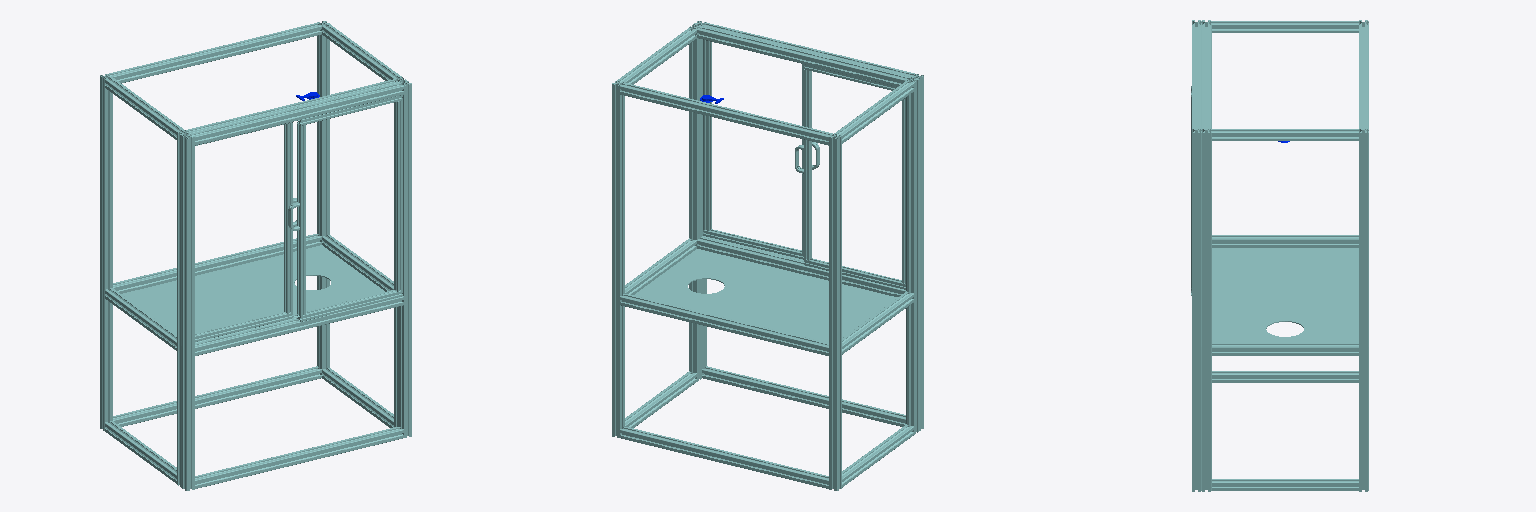
robot.urdf — prbt_cell:
<?xml version="1.0" ?>
<!-- =================================================================================== -->
<!-- |    This document was autogenerated by xacro from prbt_cell.urdf.xacro           | -->
<!-- |    EDITING THIS FILE BY HAND IS NOT RECOMMENDED                                 | -->
<!-- =================================================================================== -->
<robot name="prbt_cell">
  <!-- Specify some standard inertial calculations https://en.wikipedia.org/wiki/List_of_moments_of_inertia -->
  <!-- These make use of xacro's mathematical functionality -->
  <material name="aluminum">
    <color rgba="0.5 0.5 0.5 1"/>
  </material>
  <material name="plastic">
    <color rgba="0.1 0.1 0.1 1"/>
  </material>
  <!-- Add world link -->
  <link name="world"/>
  <material name="gray">
    <color rgba="0.6 0.8 0.8 1"/>
  </material>
  <link name="visuals_link">
    <visual>
      <geometry>
        <mesh filename="package://prbt_cell_description/meshes/prbt_cell_v1.0.STL" scale="0.001 0.001 0.001"/>
      </geometry>
      <material name="gray"/>
    </visual>
  </link>
  <link name="shield_front_link">
    <collision>
      <origin rpy="0 0 0" xyz="0 0 0"/>
      <geometry>
        <box size="1.2 0.045 1.16"/>
      </geometry>
      <material name="gray"/>
    </collision>
    <inertial>
      <origin rpy="0 0 0" xyz="0 0 0"/>
      <mass value="5"/>
      <inertia ixx="0.5615104166666666" ixy="0.0" ixz="0.0" iyy="1.1606666666666665" iyz="0.0" izz="0.6008437499999999"/>
    </inertial>
  </link>
  <link name="shield_rear_link">
    <collision>
      <origin rpy="0 0 0 " xyz="0 0 0"/>
      <geometry>
        <box size="1.2 0.09 1.16"/>
      </geometry>
      <material name="gray"/>
    </collision>
    <inertial>
      <origin rpy="0 0 0" xyz="0 0 0"/>
      <mass value="5"/>
      <inertia ixx="0.5640416666666666" ixy="0.0" ixz="0.0" iyy="1.1606666666666665" iyz="0.0" izz="0.6033749999999999"/>
    </inertial>
  </link>
  <link name="shield_right_link">
    <collision>
      <origin rpy="0 0 0" xyz="0 0 0"/>
      <geometry>
        <box size="0.045 0.8 1.16"/>
      </geometry>
      <material name="gray"/>
    </collision>
    <inertial>
      <origin rpy="0 0 0" xyz="0 0 0"/>
      <mass value="5"/>
      <inertia ixx="0.8273333333333333" ixy="0.0" ixz="0.0" iyy="0.5615104166666666" iyz="0.0" izz="0.2675104166666667"/>
    </inertial>
  </link>
  <link name="shield_left_link">
    <collision>
      <origin rpy="0 0 0" xyz="0 0 0"/>
      <geometry>
        <box size="0.045 0.8 1.16"/>
      </geometry>
      <material name="gray"/>
    </collision>
    <inertial>
      <origin rpy="0 0 0" xyz="0 0 0"/>
      <mass value="5"/>
      <inertia ixx="0.8273333333333333" ixy="0.0" ixz="0.0" iyy="0.5615104166666666" iyz="0.0" izz="0.2675104166666667"/>
    </inertial>
  </link>
  <link name="robotcell_base_link">
    <collision>
      <origin rpy="0 0 0" xyz="0 0 0.31"/>
      <geometry>
        <box size="1.2 0.8 0.62"/>
      </geometry>
      <material name="gray"/>
    </collision>
    <inertial>
      <origin rpy="0 0 0" xyz="0 0 0"/>
      <mass value="70"/>
      <inertia ixx="5.975666666666667" ixy="0.0" ixz="0.0" iyy="10.642333333333333" iyz="0.0" izz="12.133333333333333"/>
    </inertial>
  </link>
  <link name="robot_link"/>
  <joint name="robotcell_base_to_visual" type="fixed">
    <parent link="robotcell_base_link"/>
    <child link="visuals_link"/>
    <origin rpy="0 0 1.5707963267948966" xyz="0.6 -0.4 0"/>
  </joint>
  <joint name="robotcell_base_to_front_joint" type="fixed">
    <parent link="robotcell_base_link"/>
    <child link="shield_front_link"/>
    <origin rpy="0 0 0" xyz="0 0.3775 1.2"/>
  </joint>
  <joint name="robotcell_base_to_rear" type="fixed">
    <parent link="robotcell_base_link"/>
    <child link="shield_rear_link"/>
    <origin rpy="0 0 0" xyz="0 -0.35500000000000004 1.2"/>
  </joint>
  <joint name="robotcell_base_to_left" type="fixed">
    <parent link="robotcell_base_link"/>
    <child link="shield_left_link"/>
    <origin rpy="0 0 0" xyz="-0.5775 0 1.2"/>
  </joint>
  <joint name="robotcell_base_to_right" type="fixed">
    <parent link="robotcell_base_link"/>
    <child link="shield_right_link"/>
    <origin rpy="0 0 0" xyz="0.5775 0 1.2"/>
  </joint>
  <joint name="robot_cell_base_joint" type="fixed">
    <parent link="world"/>
    <child link="robotcell_base_link"/>
    <origin rpy="0 0 0" xyz="0 0 0"/>
  </joint>
  <joint name="robot_cell_base_to_robot_link" type="fixed">
    <parent link="robotcell_base_link"/>
    <child link="robot_link"/>
    <origin rpy="0 0 0" xyz="0.315 0.02 0.62"/>
  </joint>
  <!-- robot foot link -->
  <link name="prbt_base_link">
    <inertial>
      <mass value="2.4"/>
      <inertia ixx="0" ixy="0" ixz="0" iyy="0" iyz="0" izz="0"/>
    </inertial>
    <visual>
      <origin rpy="0 0 0" xyz="0 0 0"/>
      <geometry>
        <mesh filename="package://prbt_support/meshes/foot.dae"/>
      </geometry>
    </visual>
    <collision>
      <origin rpy="3.141592653589793 0 0" xyz="0 0 0.065"/>
      <geometry>
        <cylinder length="0.13" radius="0.09275"/>
      </geometry>
    </collision>
  </link>
  <!-- arm 1 joint -->
  <joint name="prbt_joint_1" type="revolute">
    <origin rpy="0 0 -3.141592653589793" xyz="0 0 0.2604"/>
    <parent link="prbt_base_link"/>
    <child link="prbt_link_1"/>
    <axis xyz="0 0 1"/>
    <limit effort="370" lower="-2.96706" upper="2.96706" velocity="1.57"/>
    <dynamics damping="15.0" friction="11"/>
  </joint>
  <!-- arm 1 link -->
  <link name="prbt_link_1">
    <inertial>
      <mass value="7.1"/>
      <origin xyz="0 -0.026 -0.051"/>
      <inertia ixx="3.53e-2" ixy="0" ixz="0" iyy="3.01e-2" iyz="9.04e-3" izz="1.87e-2"/>
    </inertial>
    <visual>
      <origin rpy="0 0 0" xyz="0 0 0"/>
      <geometry>
        <mesh filename="package://prbt_support/meshes/link_1.dae"/>
      </geometry>
    </visual>
    <collision>
      <origin rpy="0 0 0" xyz="0 0 -0.08"/>
      <geometry>
        <cylinder length="0.10" radius="0.07"/>
      </geometry>
    </collision>
    <collision>
      <origin rpy="0 0 0" xyz="0 0 0"/>
      <geometry>
        <sphere radius="0.09"/>
      </geometry>
    </collision>
    <collision>
      <origin rpy="0 1.5707963267948966 1.5707963267948966" xyz="0 -0.10 0"/>
      <geometry>
        <cylinder length="0.10" radius="0.065"/>
      </geometry>
    </collision>
  </link>
  <!-- joint between arm_1_link and arm_2_link -->
  <joint name="prbt_joint_2" type="revolute">
    <origin rpy="1.5707963267948966 0 0" xyz="0 0 0"/>
    <parent link="prbt_link_1"/>
    <child link="prbt_link_2"/>
    <axis xyz="0 0 1"/>
    <limit effort="370" lower="-2.53073" upper="2.53073" velocity="1.57"/>
    <dynamics damping="12.0" friction="10.0"/>
  </joint>
  <link name="prbt_link_2">
    <inertial>
      <mass value="1.7"/>
      <origin xyz="0 0.162 0.134"/>
      <inertia ixx="3.58e-2" ixy="0" ixz="0" iyy="3.22e-3" iyz="-1.45e-3" izz="3.66e-2"/>
    </inertial>
    <visual name="first">
      <origin rpy="0 0 0" xyz="0 0 0"/>
      <geometry>
        <mesh filename="package://prbt_support/meshes/link_2.dae"/>
      </geometry>
    </visual>
    <collision>
      <origin rpy="0.17453292519943295 0 0" xyz="0 0.15 0.145"/>
      <geometry>
        <box size="0.121 0.27 0.065"/>
      </geometry>
    </collision>
    <collision>
      <origin rpy="-0.4487989505128276 0 0" xyz="0 0.3 0.145"/>
      <geometry>
        <box size="0.11 0.1 0.075"/>
      </geometry>
    </collision>
  </link>
  <!-- joint between arm_2_link and arm_3_link -->
  <joint name="prbt_joint_3" type="revolute">
    <origin rpy="0 3.141592653589793 0" xyz="0 0.35 0"/>
    <parent link="prbt_link_2"/>
    <child link="prbt_link_3"/>
    <axis xyz="0 0 1"/>
    <limit effort="176" lower="-2.35620" upper="2.35620" velocity="1.57"/>
    <dynamics damping="4.5" friction="4.5"/>
  </joint>
  <link name="prbt_link_3">
    <inertial>
      <mass value="4.8"/>
      <origin xyz="0 0.043 -0.027"/>
      <inertia ixx="2.06e-2" ixy="0" ixz="0" iyy="1.08e-2" iyz="-5.36e-3" izz="1.63e-2"/>
    </inertial>
    <visual>
      <origin rpy="0 0 0" xyz="0 0 0"/>
      <geometry>
        <mesh filename="package://prbt_support/meshes/link_3.dae"/>
      </geometry>
    </visual>
    <collision>
      <origin rpy="0 0 0" xyz="0 0 -0.11"/>
      <geometry>
        <cylinder length="0.10" radius="0.06"/>
      </geometry>
    </collision>
    <collision>
      <origin rpy="0 0 0" xyz="0 0 0"/>
      <geometry>
        <sphere radius="0.085"/>
      </geometry>
    </collision>
    <collision>
      <origin rpy="0 1.5707963267948966 1.5707963267948966" xyz="0 0.10 0"/>
      <geometry>
        <cylinder length="0.10" radius="0.065"/>
      </geometry>
    </collision>
  </link>
  <!-- joint between arm_3_link and arm_4_link -->
  <joint name="prbt_joint_4" type="revolute">
    <origin rpy="-1.5707963267948966 3.141592653589793 0" xyz="0 0 0"/>
    <parent link="prbt_link_3"/>
    <child link="prbt_link_4"/>
    <axis xyz="0 0 1"/>
    <limit effort="176" lower="-2.96706" upper="2.96706" velocity="1.57"/>
    <dynamics damping="4.2" friction="3.8"/>
  </joint>
  <link name="prbt_link_4">
    <inertial>
      <mass value="0.9"/>
      <origin xyz="0 -0.061 0.204"/>
      <inertia ixx="6.79e-3" ixy="0" ixz="0" iyy="4.91e-3" iyz="2.67e-3" izz="3.40e-3"/>
    </inertial>
    <visual>
      <origin rpy="0 0 0" xyz="0 0 0"/>
      <geometry>
        <mesh filename="package://prbt_support/meshes/link_4.dae"/>
      </geometry>
    </visual>
    <collision>
      <origin rpy="0.966643893412244 0 0" xyz="0 -0.04 0.162"/>
      <geometry>
        <box size="0.121 0.08 0.17"/>
      </geometry>
    </collision>
    <collision>
      <origin rpy="-0.10471975511965977 0 0" xyz="0 -0.115 0.25"/>
      <geometry>
        <box size="0.09 0.06 0.12"/>
      </geometry>
    </collision>
  </link>
  <!-- joint between arm_4_link and arm_5_link -->
  <joint name="prbt_joint_5" type="revolute">
    <origin rpy="1.5707963267948966 0 3.141592653589793" xyz="0 0 0.307"/>
    <parent link="prbt_link_4"/>
    <child link="prbt_link_5"/>
    <axis xyz="0 0 1"/>
    <limit effort="41.6" lower="-2.96706" upper="2.96706" velocity="1.57"/>
    <dynamics damping="1.5" friction="3.5"/>
  </joint>
  <link name="prbt_link_5">
    <inertial>
      <mass value="2.6"/>
      <origin xyz="-0.001 0.021 -0.032"/>
      <inertia ixx="7.37e-3" ixy="4.78e-6" ixz="6.00e-5" iyy="5.87e-3" iyz="-1.71e-3" izz="3.96e-3"/>
    </inertial>
    <visual>
      <origin rpy="0 0 0" xyz="0 0 0"/>
      <geometry>
        <mesh filename="package://prbt_support/meshes/link_5.dae"/>
      </geometry>
    </visual>
    <collision>
      <origin rpy="0 0 0" xyz="0 0 -0.095"/>
      <geometry>
        <cylinder length="0.08" radius="0.045"/>
      </geometry>
    </collision>
    <collision>
      <origin rpy="0 0 0" xyz="0 0 -0.06"/>
      <geometry>
        <cylinder length="0.04" radius="0.0545"/>
      </geometry>
    </collision>
    <collision>
      <origin rpy="0 0 0" xyz="0 0 0"/>
      <geometry>
        <sphere radius="0.07"/>
      </geometry>
    </collision>
    <collision>
      <origin rpy="0 1.5707963267948966 1.5707963267948966" xyz="0 0.05 0"/>
      <geometry>
        <cylinder length="0.03" radius="0.05"/>
      </geometry>
    </collision>
    <collision>
      <origin rpy="0 1.5707963267948966 1.5707963267948966" xyz="0 0.05 0"/>
      <geometry>
        <cylinder length="0.049" radius="0.0435"/>
      </geometry>
    </collision>
  </link>
  <!-- joint between arm_5_link and flange -->
  <joint name="prbt_joint_6" type="revolute">
    <origin rpy="-1.5707963267948966 0 0" xyz="0 0.084 0"/>
    <parent link="prbt_link_5"/>
    <child link="prbt_flange"/>
    <axis xyz="0 0 1"/>
    <limit effort="20.1" lower="-3.12414" upper="3.12414" velocity="1.57"/>
    <dynamics damping="4.5" friction="7.0"/>
  </joint>
  <!-- Flange -->
  <link name="prbt_flange">
    <inertial>
      <mass value="0.02"/>
      <origin xyz="0 0 0"/>
      <inertia ixx="0" ixy="0" ixz="0" iyy="0" iyz="0" izz="0"/>
    </inertial>
    <visual>
      <origin rpy="0 0 0" xyz="0 0 0"/>
      <geometry>
        <mesh filename="package://prbt_support/meshes/flange.dae"/>
      </geometry>
    </visual>
    <collision>
      <origin rpy="0 0 0" xyz="0 0 -0.0035"/>
      <geometry>
        <cylinder length="0.02" radius="0.0331"/>
      </geometry>
    </collision>
  </link>
  <!-- ROS-Industrial 'base' frame: base_link to robot world coordinate sytem transform -->
  <link name="prbt_base"/>
  <joint name="prbt_base_link-base" type="fixed">
    <origin rpy="0 0 0" xyz="0 0 0"/>
    <parent link="prbt_base_link"/>
    <child link="prbt_base"/>
  </joint>
  <!-- ROS-Industrial 'tool0' frame: all-zeros tool frame -->
  <link name="prbt_tool0"/>
  <joint name="prbt_flange-tool0" type="fixed">
    <origin rpy="0 0 0" xyz="0 0 0"/>
    <parent link="prbt_flange"/>
    <child link="prbt_tool0"/>
  </joint>
  <!-- transmissions for gazebo -->
  <transmission name="prbt_joint_1_trans">
    <type>transmission_interface/SimpleTransmission</type>
    <joint name="prbt_joint_1">
      <hardwareInterface>hardware_interface/PositionJointInterface</hardwareInterface>
    </joint>
    <actuator name="prbt_joint_1_motor"/>
  </transmission>
  <transmission name="prbt_joint_2_trans">
    <type>transmission_interface/SimpleTransmission</type>
    <joint name="prbt_joint_2">
      <hardwareInterface>hardware_interface/PositionJointInterface</hardwareInterface>
    </joint>
    <actuator name="prbt_joint_2_motor"/>
  </transmission>
  <transmission name="prbt_joint_3_trans">
    <type>transmission_interface/SimpleTransmission</type>
    <joint name="prbt_joint_3">
      <hardwareInterface>hardware_interface/PositionJointInterface</hardwareInterface>
    </joint>
    <actuator name="prbt_joint_3_motor"/>
  </transmission>
  <transmission name="prbt_joint_4_trans">
    <type>transmission_interface/SimpleTransmission</type>
    <joint name="prbt_joint_4">
      <hardwareInterface>hardware_interface/PositionJointInterface</hardwareInterface>
    </joint>
    <actuator name="prbt_joint_4_motor"/>
  </transmission>
  <transmission name="prbt_joint_5_trans">
    <type>transmission_interface/SimpleTransmission</type>
    <joint name="prbt_joint_5">
      <hardwareInterface>hardware_interface/PositionJointInterface</hardwareInterface>
    </joint>
    <actuator name="prbt_joint_5_motor"/>
  </transmission>
  <transmission name="prbt_joint_6_trans">
    <type>transmission_interface/SimpleTransmission</type>
    <joint name="prbt_joint_6">
      <hardwareInterface>hardware_interface/PositionJointInterface</hardwareInterface>
    </joint>
    <actuator name="prbt_joint_6_motor"/>
  </transmission>
  <gazebo>
    <plugin filename="libgazebo_ros_control.so" name="gazebo_ros_control">
      <robotNamespace>prbt</robotNamespace>
      <robotSimType>gazebo_ros_control/DefaultRobotHWSim</robotSimType>
      <legacyModeNS>false</legacyModeNS>
      <!-- Only used from ros-kinetic-gazebo-ros-control 2.5.18 -->
    </plugin>
  </gazebo>
  <gazebo reference="prbt_joint_1">
    <provideFeedback>true</provideFeedback>
  </gazebo>
  <gazebo>
    <plugin filename="libgazebo_ros_ft_sensor.so" name="ft_sensor">
      <updateRate>100.0</updateRate>
      <topicName>prbt/ft_sensor/joint_1</topicName>
      <jointName>prbt_joint_1</jointName>
    </plugin>
  </gazebo>
  <gazebo reference="prbt_joint_2">
    <provideFeedback>true</provideFeedback>
  </gazebo>
  <gazebo>
    <plugin filename="libgazebo_ros_ft_sensor.so" name="ft_sensor">
      <updateRate>100.0</updateRate>
      <topicName>prbt/ft_sensor/joint_2</topicName>
      <jointName>prbt_joint_2</jointName>
    </plugin>
  </gazebo>
  <gazebo reference="prbt_joint_3">
    <provideFeedback>true</provideFeedback>
  </gazebo>
  <gazebo>
    <plugin filename="libgazebo_ros_ft_sensor.so" name="ft_sensor">
      <updateRate>100.0</updateRate>
      <topicName>prbt/ft_sensor/joint_3</topicName>
      <jointName>prbt_joint_3</jointName>
    </plugin>
  </gazebo>
  <gazebo reference="prbt_joint_4">
    <provideFeedback>true</provideFeedback>
  </gazebo>
  <gazebo>
    <plugin filename="libgazebo_ros_ft_sensor.so" name="ft_sensor">
      <updateRate>100.0</updateRate>
      <topicName>prbt/ft_sensor/joint_4</topicName>
      <jointName>prbt_joint_4</jointName>
    </plugin>
  </gazebo>
  <gazebo reference="prbt_joint_5">
    <provideFeedback>true</provideFeedback>
  </gazebo>
  <gazebo>
    <plugin filename="libgazebo_ros_ft_sensor.so" name="ft_sensor">
      <updateRate>100.0</updateRate>
      <topicName>prbt/ft_sensor/joint_5</topicName>
      <jointName>prbt_joint_5</jointName>
    </plugin>
  </gazebo>
  <gazebo reference="prbt_joint_6">
    <provideFeedback>true</provideFeedback>
  </gazebo>
  <gazebo>
    <plugin filename="libgazebo_ros_ft_sensor.so" name="ft_sensor">
      <updateRate>100.0</updateRate>
      <topicName>prbt/ft_sensor/joint_6</topicName>
      <jointName>prbt_joint_6</jointName>
    </plugin>
  </gazebo>
  <joint name="prbt_base_link_cell_joint" type="fixed">
    <origin rpy="0 0 -1.5707963267948966" xyz="0 0 0"/>
    <parent link="robot_link"/>
    <child link="prbt_base_link"/>
  </joint>
  <!-- Specify some standard inertial calculations https://en.wikipedia.org/wiki/List_of_moments_of_inertia -->
  <!-- These make use of xacro's mathematical functionality -->
  <material name="blue">
    <color rgba="0 0.2 1 1"/>
  </material>
  <material name="green">
    <color rgba="0 0.9 0.3 1"/>
  </material>
  <material name="white">
    <color rgba="1 1 1 1"/>
  </material>
  <!--Base plate-->
  <link name="schunk_egp40_base_link">
    <visual>
      <geometry>
        <mesh filename="package://prbt_cell_description/meshes/flange_v3.STL" scale="0.001 0.001 0.001"/>
      </geometry>
      <material name="blue"/>
      <origin rpy="3.141592653589793 0 0" xyz="-0.0325 0.0325 0.015"/>
    </visual>
    <collision>
      <geometry>
        <mesh filename="package://prbt_cell_description/meshes/flange_v3.STL" scale="0.001 0.001 0.001"/>
      </geometry>
      <origin rpy="3.141592653589793 0 0" xyz="-0.0325 0.0325 0.015"/>
    </collision>
  </link>
  <!--Main gripper-->
  <link name="schunk_egp40_body_link">
    <visual>
      <geometry>
        <mesh filename="package://prbt_cell_description/meshes/schunk_egp40_body.STL" scale="0.001 0.001 0.001"/>
      </geometry>
      <origin rpy="1.5707963267948966 0 0" xyz="-0.02 0.013 -0.03655"/>
      <material name="green"/>
    </visual>
    <collision>
      <geometry>
        <mesh filename="package://prbt_cell_description/meshes/schunk_egp40_body.STL" scale="0.001 0.001 0.001"/>
      </geometry>
      <origin rpy="1.5707963267948966 0 0" xyz="-0.02 0.013 -0.03655"/>
    </collision>
    <inertial>
      <origin rpy="1.5707963267948966 0 0" xyz="-0.02 0.013 -0.03655"/>
      <mass value="0.5"/>
      <inertia ixx="0.0002508170833333333" ixy="0.0" ixz="0.0" iyy="0.00028931708333333327" iyz="0.0" izz="9.483333333333334e-05"/>
    </inertial>
  </link>
  <!--Pincer block 1-->
  <link name="schunk_egp40_finger_left_link">
    <visual>
      <geometry>
        <mesh filename="package://prbt_cell_description/meshes/schunk_finger_left.STL" scale="0.001 0.001 0.001"/>
      </geometry>
      <origin rpy="1.5707963267948966 0 0" xyz="-0.02 0.008 -0.07925"/>
      <material name="white"/>
    </visual>
    <collision>
      <geometry>
        <mesh filename="package://prbt_cell_description/meshes/schunk_finger_left.STL" scale="0.001 0.001 0.001"/>
      </geometry>
      <origin rpy="1.5707963267948966 0 0" xyz="-0.02 0.008 -0.07925"/>
    </collision>
    <inertial>
      <origin rpy="1.5707963267948966 0 0" xyz="-0.02 0.008 -0.07925"/>
      <mass value="0.1"/>
      <inertia ixx="3.394083333333333e-06" ixy="0.0" ixz="0.0" iyy="1.4594083333333333e-05" iyz="0.0" izz="1.5466666666666665e-05"/>
    </inertial>
  </link>
  <!--Pincer block 2-->
  <link name="schunk_egp40_finger_right_link">
    <visual>
      <geometry>
        <mesh filename="package://prbt_cell_description/meshes/schunk_finger_right.STL" scale="0.001 0.001 0.001"/>
      </geometry>
      <origin rpy="1.5707963267948966 0 0" xyz="-0.02 0.008 -0.07925"/>
      <material name="blue"/>
    </visual>
    <collision>
      <geometry>
        <mesh filename="package://prbt_cell_description/meshes/schunk_finger_right.STL" scale="0.001 0.001 0.001"/>
      </geometry>
      <origin rpy="1.5707963267948966 0 0" xyz="-0.02 0.008 -0.07925"/>
    </collision>
    <inertial>
      <origin rpy="1.5707963267948966 0 0" xyz="-0.02 0.008 -0.07925"/>
      <mass value="0.1"/>
      <inertia ixx="3.394083333333333e-06" ixy="0.0" ixz="0.0" iyy="1.4594083333333333e-05" iyz="0.0" izz="1.5466666666666665e-05"/>
    </inertial>
  </link>
  <!-- Virtual link for visualizytion and planning-->
  <link name="tool_tip"/>
  <!-- Joints-->
  <joint name="schunk_egp40_body_joint" type="fixed">
    <parent link="schunk_egp40_base_link"/>
    <child link="schunk_egp40_body_link"/>
    <origin rpy="0.0 0.0 0.0" xyz="0.0 0.0 0.05155"/>
  </joint>
  <joint name="schunk_egp40_finger_left_joint" type="prismatic">
    <parent link="schunk_egp40_body_link"/>
    <child link="schunk_egp40_finger_left_link"/>
    <origin rpy="0.0 0.0 0.0" xyz="0.0 0.0 0.0427"/>
    <!-- the motion of the pincer is along the X axis -->
    <axis xyz="1 0 0"/>
    <!-- the motion of the pincer is limited to the half of the gripper body length -->
    <limit effort="100" lower="-0.0025" upper="0.0025" velocity="100"/>
  </joint>
  <joint name="schunk_egp40_finger_right_joint" type="prismatic">
    <parent link="schunk_egp40_body_link"/>
    <child link="schunk_egp40_finger_right_link"/>
    <origin rpy="0.0 0.0 0.0" xyz="0.0 0.002 0.0427"/>
    <!-- the motion of the pincer is along the X axis -->
    <axis xyz="1 0 0"/>
    <!-- the motion of the pincer is limited to the half of the gripper body length -->
    <limit effort="100" lower="0.0025" upper="-0.0025" velocity="100"/>
  </joint>
  <joint name="schunk_egp40_tip_joint" type="fixed">
    <parent link="schunk_egp40_base_link"/>
    <child link="tool_tip"/>
    <origin rpy="0.0 0.0 0.0" xyz="0 0 0.0884"/>
  </joint>
  <joint name="schunk_egp40_base_joint" type="fixed">
    <parent link="prbt_tool0"/>
    <child link="schunk_egp40_base_link"/>
    <origin rpy="0 0 0" xyz="0 0 0"/>
  </joint>
  <!-- camera body, with origin at bottom screw mount -->
  <joint name="camera_joint" type="fixed">
    <origin rpy="0 -1.5707963267948966 1.5707963267948966" xyz="0 -0.05 0.025"/>
    <parent link="schunk_egp40_base_link"/>
    <child link="camera_bottom_screw_frame"/>
  </joint>
  <link name="camera_bottom_screw_frame"/>
  <joint name="camera_link_joint" type="fixed">
    <origin rpy="0 0 0" xyz="0.010600000000000002 0.0175 0.0125"/>
    <parent link="camera_bottom_screw_frame"/>
    <child link="camera_link"/>
  </joint>
  <link name="camera_link">
    <visual>
      <!-- the mesh origin is at front plate in between the two infrared camera axes -->
      <origin rpy="1.5707963267948966 0 1.5707963267948966" xyz="0.0043 -0.0175 0"/>
      <geometry>
        <mesh filename="package://realsense2_description/meshes/d435.dae"/>
      </geometry>
    </visual>
    <collision>
      <origin rpy="0 0 0" xyz="0 -0.0175 0"/>
      <geometry>
        <box size="0.02505 0.09 0.025"/>
      </geometry>
    </collision>
    <inertial>
      <!-- The following are not reliable values, and should not be used for modeling -->
      <mass value="0.072"/>
      <origin xyz="0 0 0"/>
      <inertia ixx="0.003881243" ixy="0.0" ixz="0.0" iyy="0.000498940" iyz="0.0" izz="0.003879257"/>
    </inertial>
  </link>
</robot>

--- What the picture shows (computed from the rendered views, not written in the file) ---
Views: 3 orthographic renders of the robot side by side, from view 1: azimuth 30°, elevation 25°; view 2: azimuth 150°, elevation 25°; view 3: azimuth 270°, elevation 25°.
Robot: prbt_cell — 24 links, 23 joints (6 revolute, 2 prismatic, 15 fixed); root link world; default pose: all joints at 0.
Links seen in each view (by area): view 1: visuals_link; view 2: visuals_link; view 3: visuals_link.
Link boxes in pixels (<box>): visuals_link: <box>100,21,411,490</box>; visuals_link: <box>612,21,923,490</box>; visuals_link: <box>1191,20,1368,491</box>.
Size in the robot's own frame: 1.2 by 0.8015 by 1.79 metres.
Meshes: 13 distinct files referenced, 2 mesh visuals loaded (2 binary STL); not drawn: 11 (reference not matched to a file when rendering).